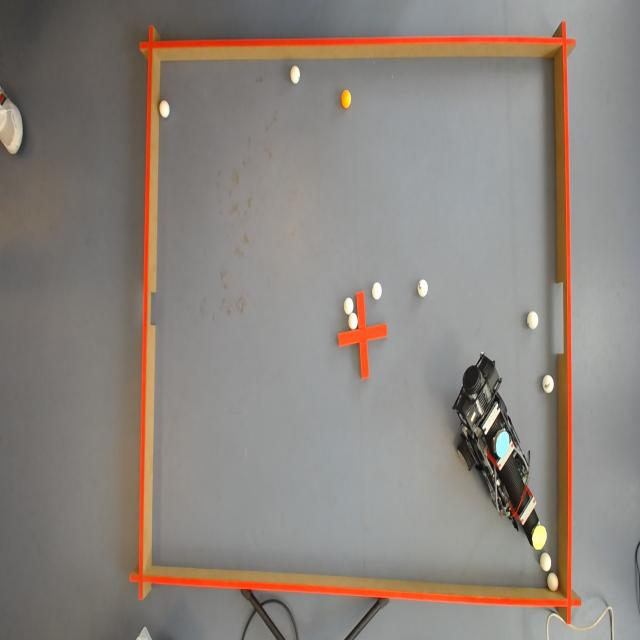orange: (340, 90, 352, 110)
robot: (456, 357, 548, 567)
robot-front: (533, 528, 548, 550)
robot-rear: (496, 432, 510, 458)
white: (548, 572, 560, 592), (290, 64, 302, 84), (541, 552, 552, 572), (159, 100, 171, 118), (372, 283, 384, 300), (344, 296, 354, 315), (528, 309, 538, 327), (543, 374, 554, 390), (347, 314, 357, 330), (418, 282, 428, 296)
